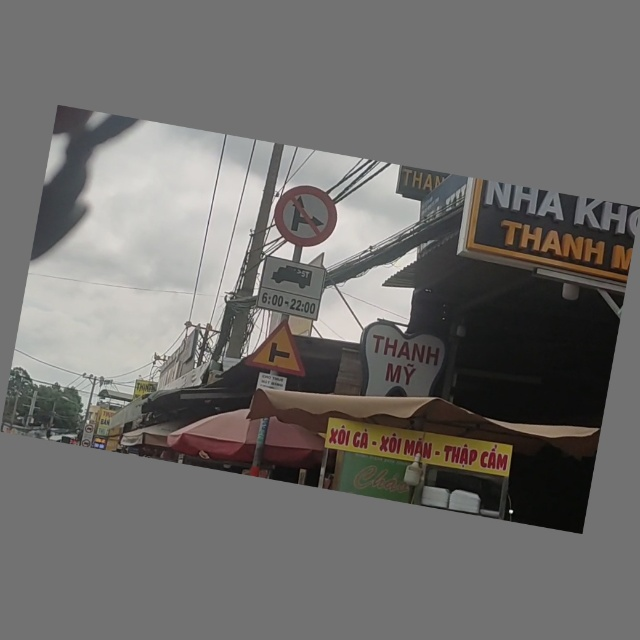P.139: (271, 182, 341, 252)
S.505a*Xe tai: (256, 257, 325, 319)
W.205b: (247, 317, 315, 377)
